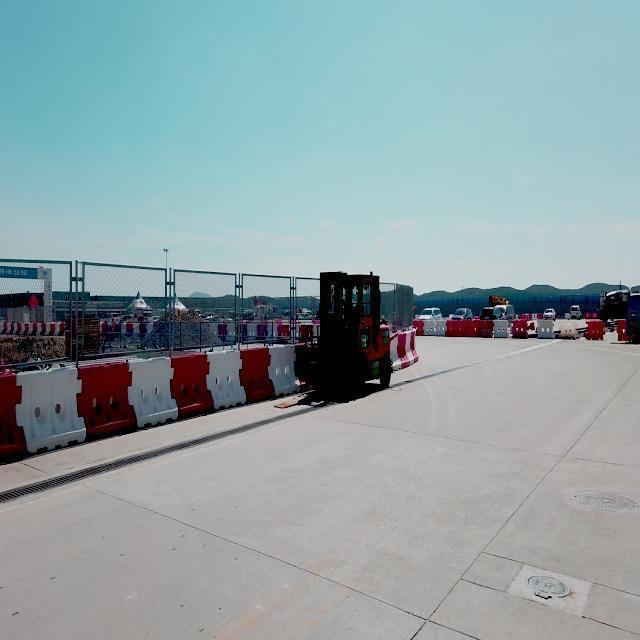forklift: (296, 270, 391, 393)
